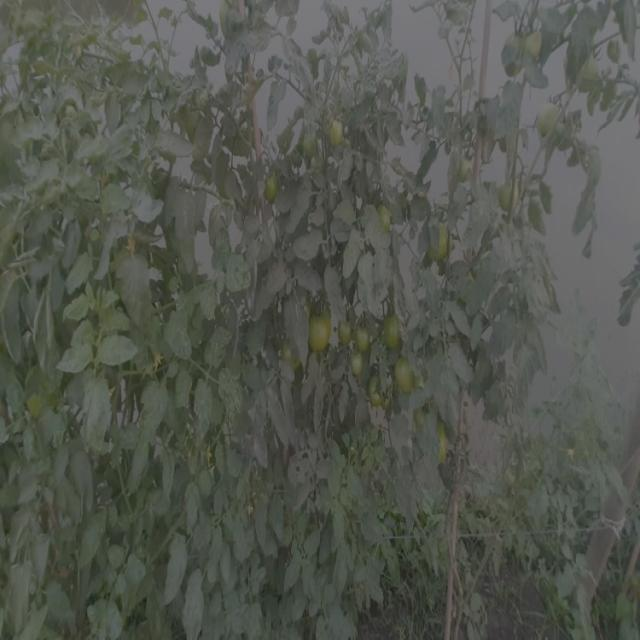tomato: (424, 210, 458, 264), (304, 306, 338, 357), (512, 23, 546, 65), (534, 97, 568, 139), (431, 425, 458, 470), (575, 55, 607, 90), (324, 111, 350, 153), (379, 306, 406, 346), (394, 360, 422, 395), (370, 198, 397, 231), (499, 176, 522, 213), (458, 145, 482, 179), (349, 318, 373, 350), (259, 169, 281, 202), (365, 379, 388, 409), (298, 127, 318, 151), (348, 352, 364, 373)
